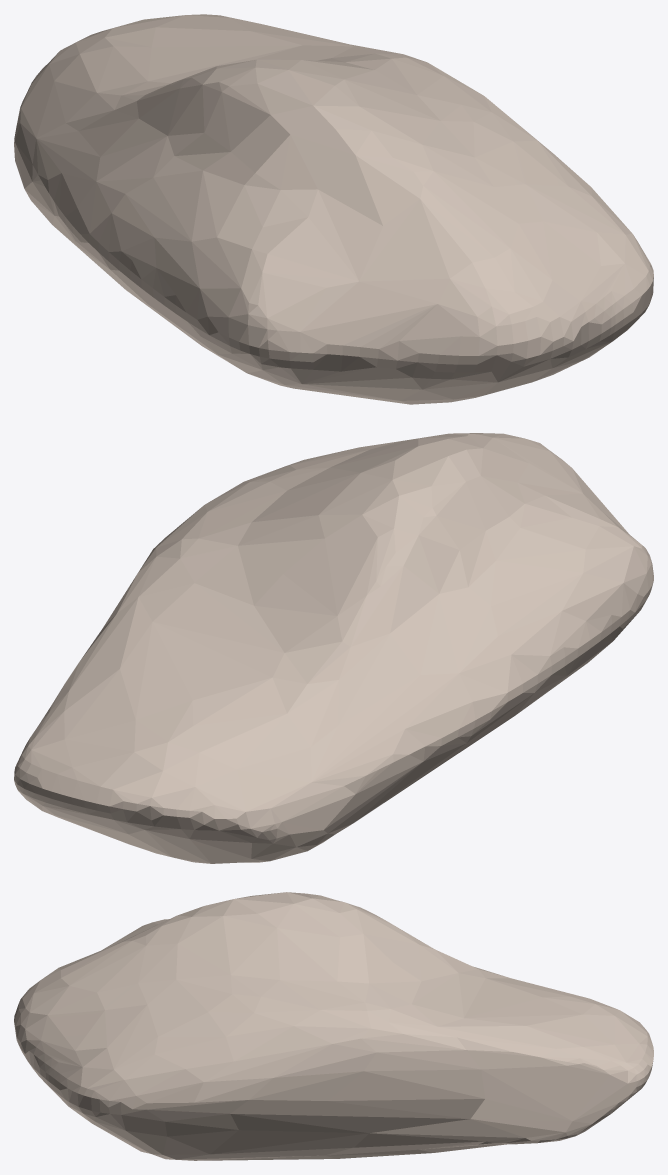
File: kamen4.FBX
3 views of the same model, one above another, from view 1: azimuth 30°, elevation 25°; view 2: azimuth 150°, elevation 25°; view 3: azimuth 270°, elevation 25° (orthographic). The views are drawn at different scales.
Parts seen in each view (by area): view 1: Rock.Landscape.Style_4; view 2: Rock.Landscape.Style_4; view 3: Rock.Landscape.Style_4.
Boxes of the visible parts, left/top/right/bottom form: Rock.Landscape.Style_4: left=14, top=14, right=653, bottom=404; Rock.Landscape.Style_4: left=14, top=433, right=653, bottom=863; Rock.Landscape.Style_4: left=14, top=892, right=653, bottom=1160.
Bounding box in the file's own units: 2.41 × 1.57 × 4.47.
